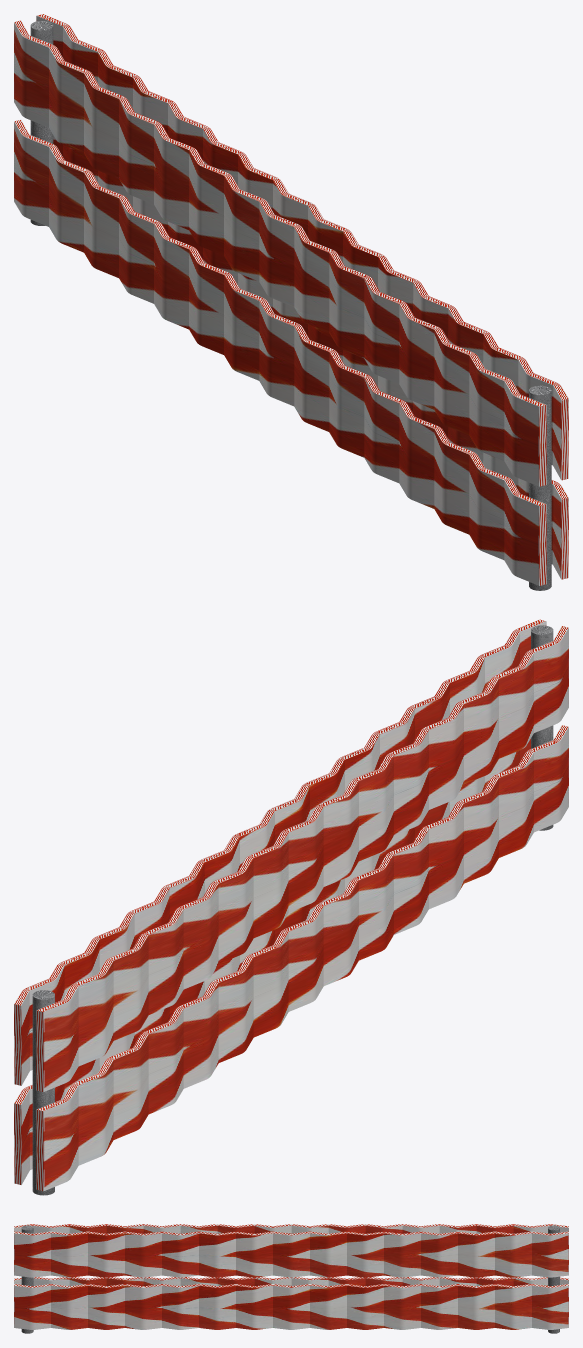
Rendered from Road barrier.fbx.
3 renders of one model, top to bottom at view 1: azimuth 30°, elevation 25°; view 2: azimuth 150°, elevation 25°; view 3: azimuth 270°, elevation 25°, orthographic. The views are drawn at different scales.
Visible parts, largest first — view 1: Box004, Box001, Box002, Box003, Cylinder001, Cylinder004; view 2: Box004, Box001, Box002, Box003, Cylinder003, Cylinder002; view 3: Box002, Box003, Box001, Box004, Cylinder001.
Part boxes in pixels (x1=…): Box004: x1=14, y1=119, x2=546, y2=585; Box001: x1=14, y1=20, x2=546, y2=486; Box002: x1=36, y1=14, x2=568, y2=480; Box003: x1=53, y1=135, x2=568, y2=579; Cylinder001: x1=529, y1=477, x2=551, y2=590; Cylinder004: x1=529, y1=385, x2=551, y2=503; Box004: x1=36, y1=725, x2=568, y2=1191; Box001: x1=36, y1=626, x2=568, y2=1091; Box002: x1=14, y1=619, x2=546, y2=1085; Box003: x1=14, y1=739, x2=530, y2=1184; Cylinder003: x1=32, y1=990, x2=54, y2=1108; Cylinder002: x1=32, y1=1081, x2=54, y2=1195; Box002: x1=14, y1=1231, x2=568, y2=1277; Box003: x1=14, y1=1284, x2=568, y2=1329; Box001: x1=14, y1=1224, x2=568, y2=1233; Box004: x1=14, y1=1277, x2=568, y2=1286; Cylinder001: x1=21, y1=1276, x2=33, y2=1333.
Size of the model in its own units: 46.34 by 191 by 930.
Materials: 2 (2 with a texture image).
